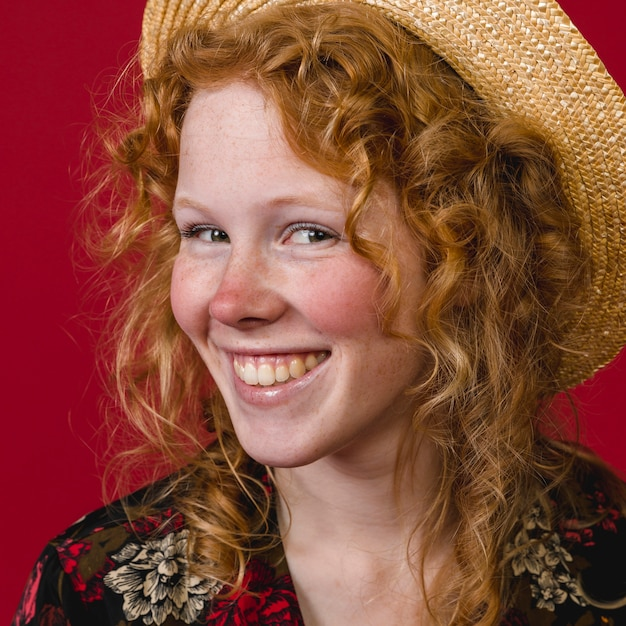teen: (111, 11, 485, 486)
